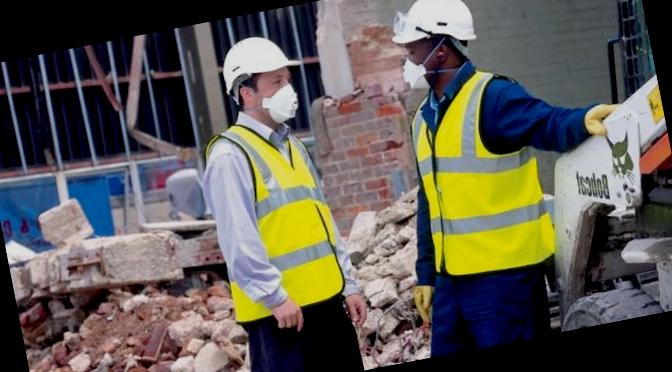helmet: (368, 0, 493, 57), (200, 32, 308, 96)
person: (347, 0, 589, 356), (177, 25, 380, 372)
